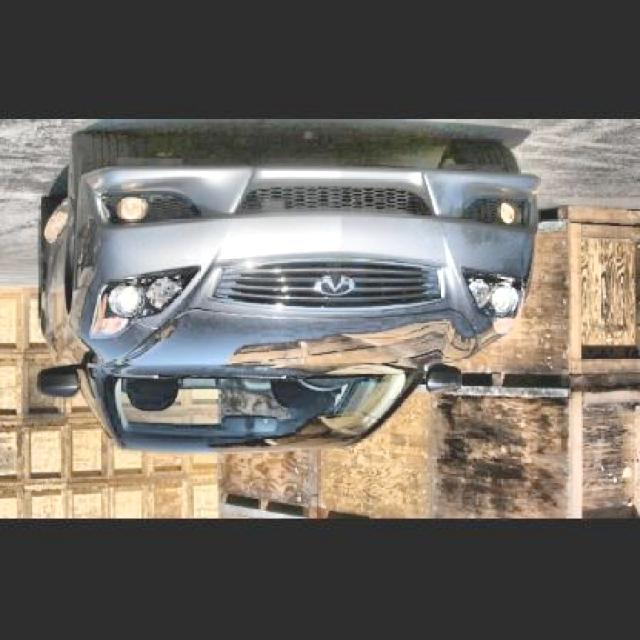black: (37, 153, 581, 467)
